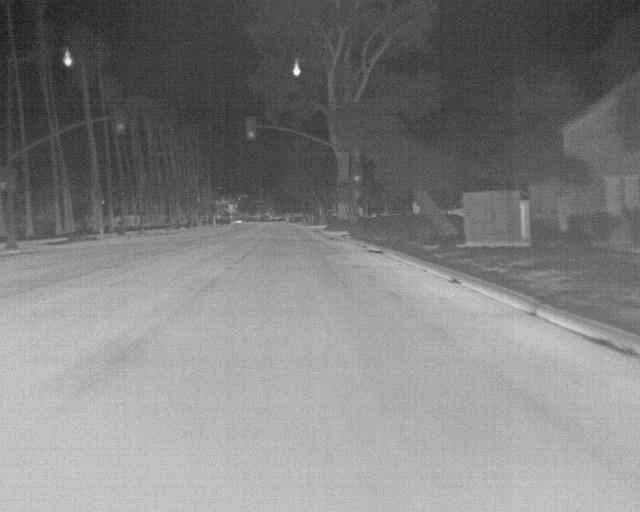car: (219, 211, 233, 225)
